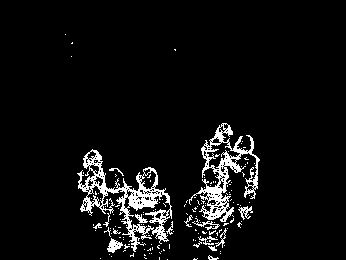person: (183, 165, 235, 260), (129, 165, 175, 260), (218, 133, 262, 228), (75, 147, 115, 237), (100, 167, 139, 256), (198, 120, 246, 190)
